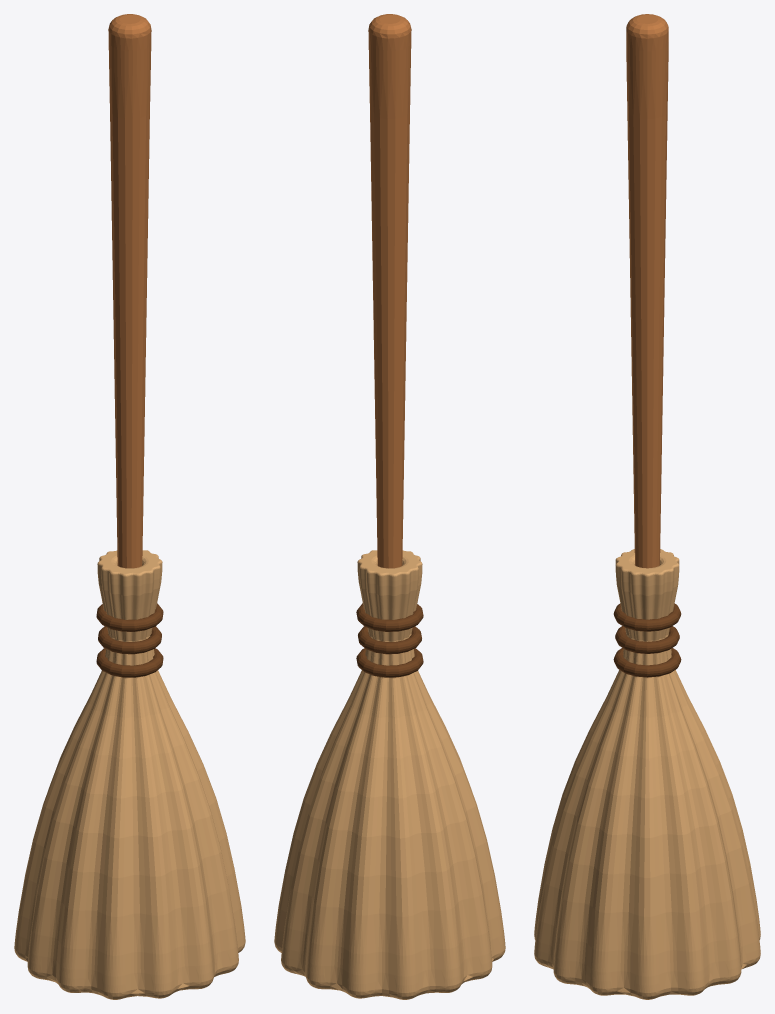
Rendered from Broom.fbx.
The picture shows the model from 3 angles, left to right: view 1: azimuth 30°, elevation 25°; view 2: azimuth 150°, elevation 25°; view 3: azimuth 270°, elevation 25°; orthographic projection.
Parts seen in each view (by area): view 1: 개체_1, 개체_5, 개체_3, 개체_4, 개체_2; view 2: 개체_1, 개체_5, 개체_3, 개체_4, 개체_2; view 3: 개체_1, 개체_5, 개체_3, 개체_4, 개체_2.
Part boxes in pixels (<box>): 개체_1: <box>14,550,245,999</box>; 개체_5: <box>108,14,151,568</box>; 개체_3: <box>96,648,163,677</box>; 개체_4: <box>98,626,161,654</box>; 개체_2: <box>96,603,163,631</box>; 개체_1: <box>274,550,505,999</box>; 개체_5: <box>368,14,411,568</box>; 개체_3: <box>356,648,423,677</box>; 개체_4: <box>358,626,421,654</box>; 개체_2: <box>356,603,423,631</box>; 개체_1: <box>534,549,760,999</box>; 개체_5: <box>626,14,668,568</box>; 개체_3: <box>613,648,681,677</box>; 개체_4: <box>615,626,679,653</box>; 개체_2: <box>613,603,681,631</box>.
Bounding box in the file's own units: 213 × 950 × 209.
